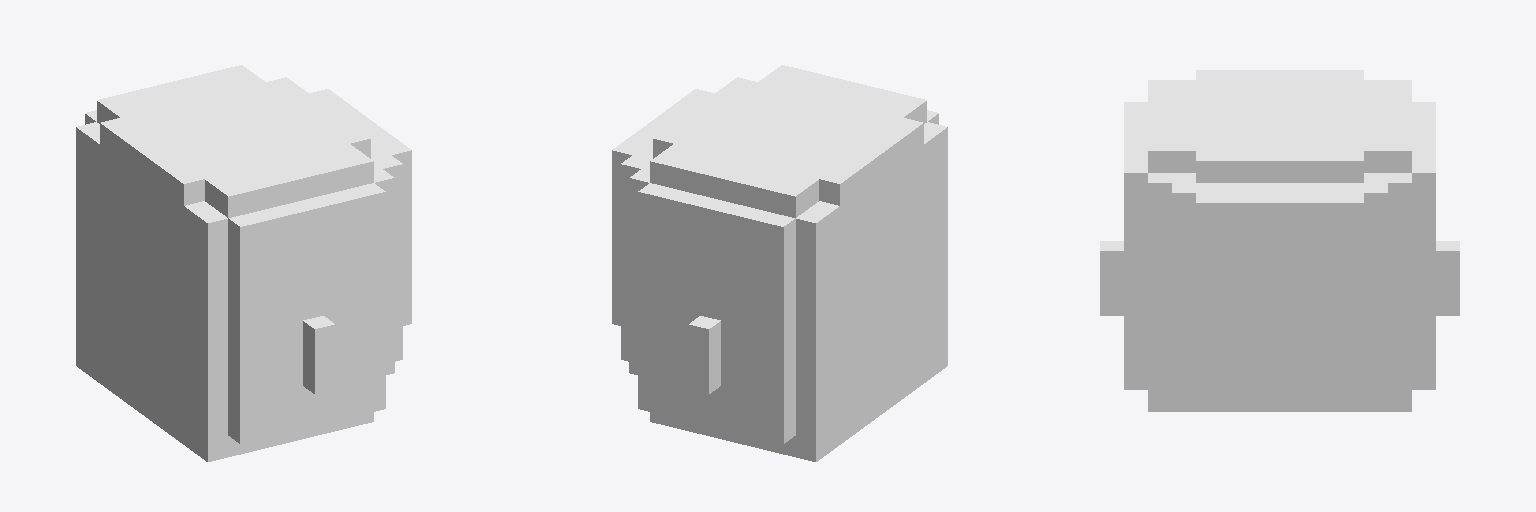
The model's file is pracGenny-2-head.obj.
3 views of the same model, side by side, from view 1: azimuth 30°, elevation 25°; view 2: azimuth 150°, elevation 25°; view 3: azimuth 270°, elevation 25° (orthographic).
Visible parts, largest first — view 1: head; view 2: head; view 3: head.
Boxes of the visible parts, x1=… form: head: x1=76, y1=65, x2=411, y2=461; head: x1=612, y1=65, x2=947, y2=461; head: x1=1100, y1=70, x2=1459, y2=411.
Size of the model in its own units: 1.1 by 1.2 by 1.5.